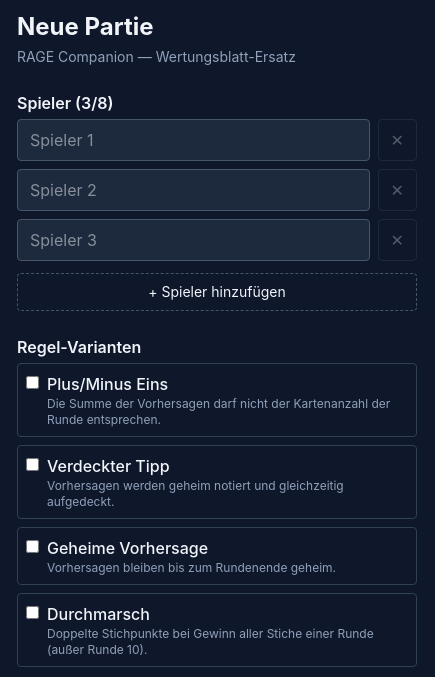
Test: PlayerSetupScreen › allows adding players up to the maximum
Click the button "+ Spieler hinzufügen" at (217, 292), box [17,273,417,311]
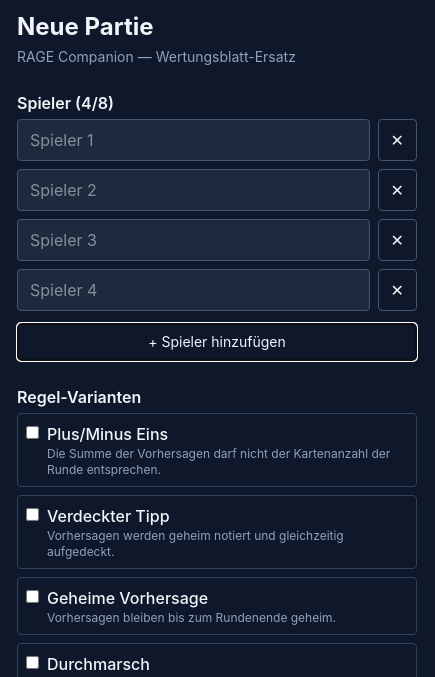
Click the button "+ Spieler hinzufügen" at (217, 342), box [17,323,417,361]
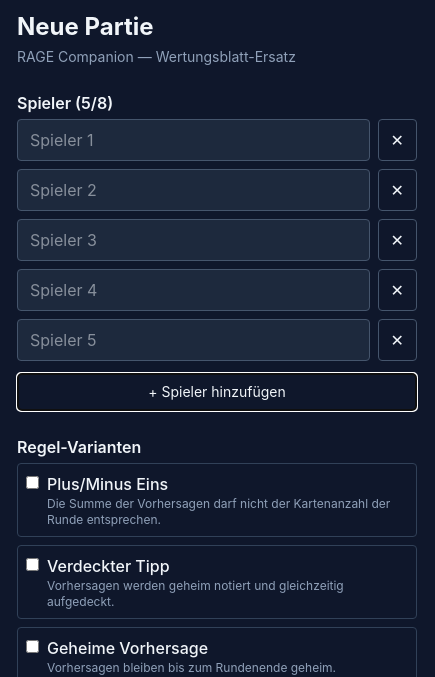
Click the button "+ Spieler hinzufügen" at (217, 392), box [17,373,417,411]
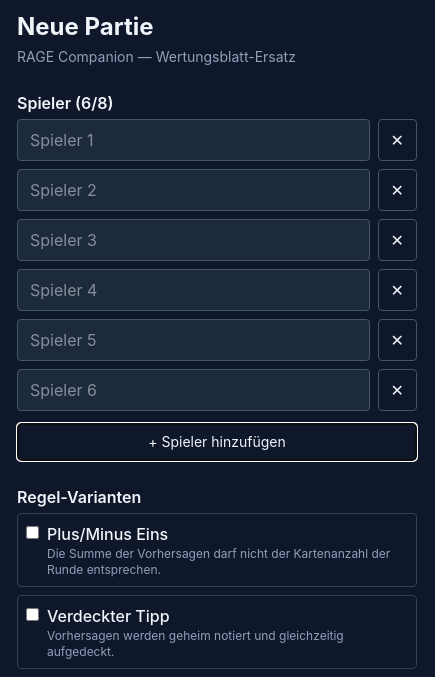
Click the button "+ Spieler hinzufügen" at (217, 442), box [17,423,417,461]
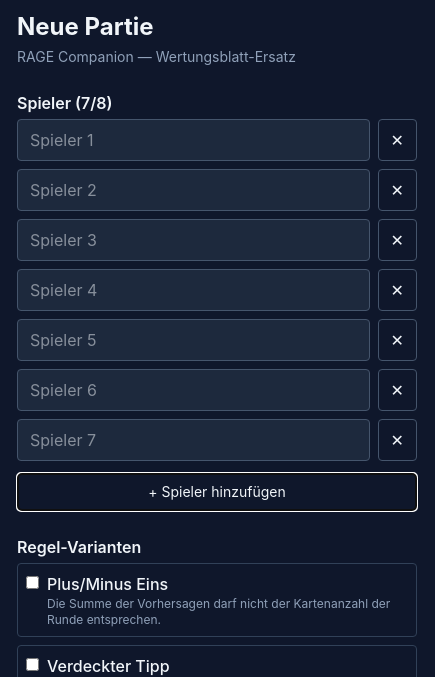
Click the button "+ Spieler hinzufügen" at (217, 492), box [17,473,417,511]
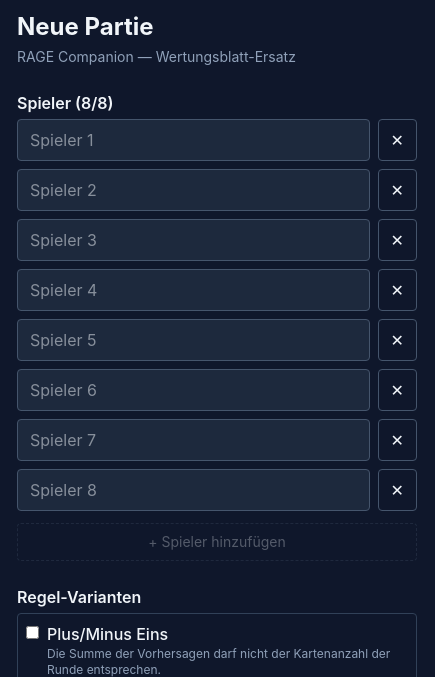
Now the number of fields is 8
Now the button "+ Spieler hinzufügen" is disabled, box [17,523,417,561]
